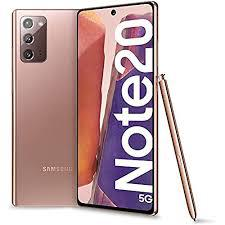Smartphone: (77, 2, 157, 211), (13, 14, 76, 207)
